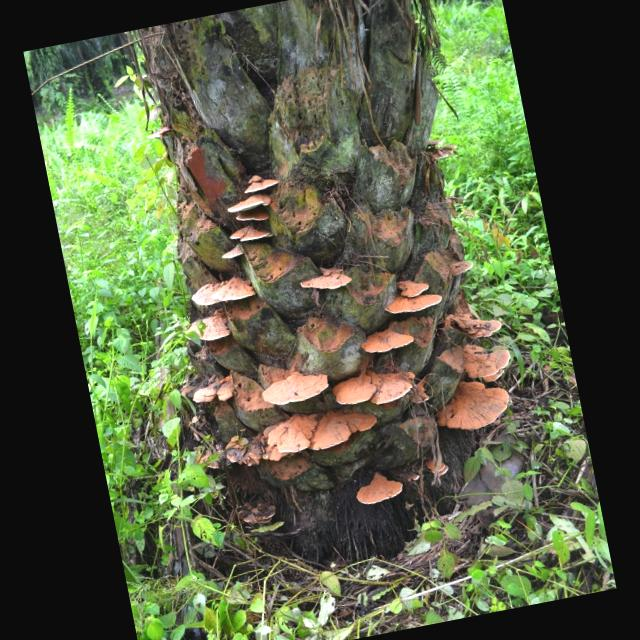ganoderma: (431, 373, 516, 438), (302, 402, 382, 454), (262, 410, 326, 459), (260, 368, 333, 410), (461, 338, 515, 388), (190, 275, 258, 312), (355, 470, 408, 508), (359, 324, 417, 357), (367, 372, 420, 408), (329, 373, 380, 410), (385, 291, 445, 319), (301, 265, 355, 296), (183, 314, 233, 347), (224, 435, 265, 471), (462, 311, 505, 342), (237, 499, 279, 530), (259, 427, 293, 465), (229, 221, 275, 246), (227, 193, 274, 216), (242, 172, 282, 196), (425, 137, 460, 163), (396, 276, 432, 301), (236, 209, 271, 227), (190, 385, 218, 406), (409, 383, 432, 406), (426, 460, 451, 480), (216, 382, 238, 404), (145, 126, 172, 143), (220, 245, 246, 262), (450, 261, 476, 278), (407, 473, 421, 484)
